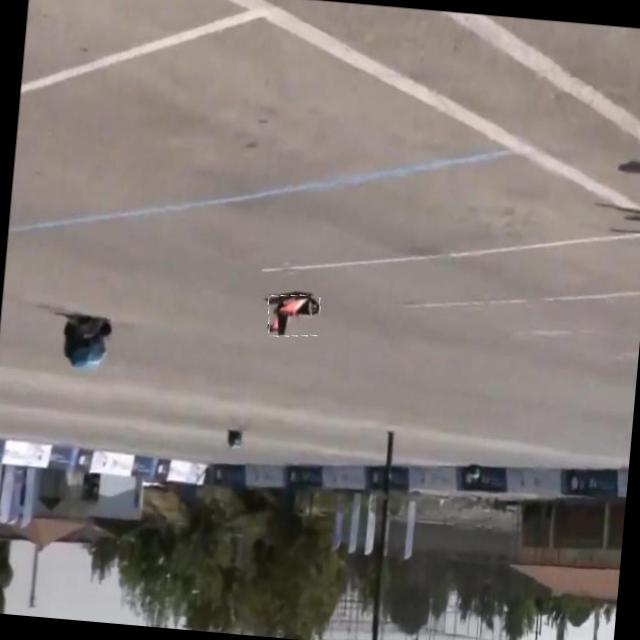UAV: (245, 281, 320, 359)
